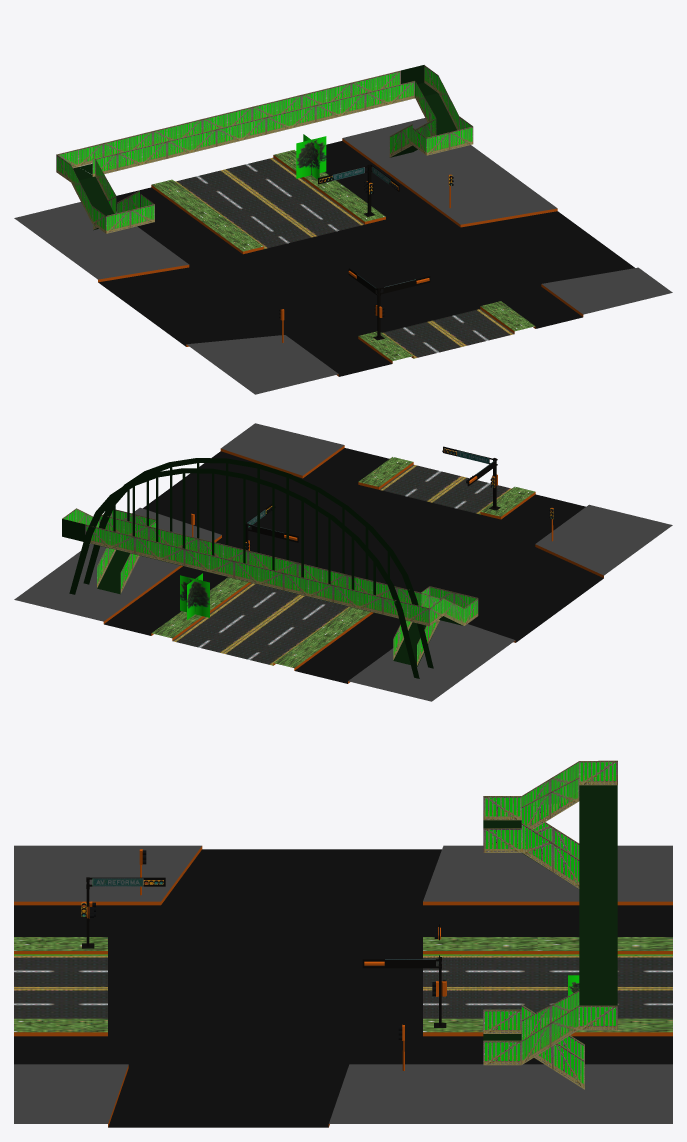
File: 02_refsep_n.obj
The picture shows the model from 3 angles, top to bottom: view 1: azimuth 30°, elevation 25°; view 2: azimuth 150°, elevation 25°; view 3: azimuth 270°, elevation 25°; orthographic projection. The views are drawn at different scales.
Parts seen in each view (by area): view 1: 02_refsep_n_Grid.004, pz_bridge_05_bridge.002_Plane.014, pz_semaf_03_prekfc_Plane.001; view 2: 02_refsep_n_Grid.004, pz_bridge_05_bridge.002_Plane.014, pz_semaf_03_prekfc_Plane.001; view 3: 02_refsep_n_Grid.004, pz_bridge_05_bridge.002_Plane.014, pz_semaf_03_prekfc_Plane.001.
Part boxes in pixels (x1,y1,x2,y2): 02_refsep_n_Grid.004: (14,118,672,394); pz_bridge_05_bridge.002_Plane.014: (56,65,473,233); pz_semaf_03_prekfc_Plane.001: (279,164,453,342); 02_refsep_n_Grid.004: (14,423,672,701); pz_bridge_05_bridge.002_Plane.014: (62,458,478,678); pz_semaf_03_prekfc_Plane.001: (191,446,553,550); 02_refsep_n_Grid.004: (14,845,672,1127); pz_bridge_05_bridge.002_Plane.014: (483,760,617,1089); pz_semaf_03_prekfc_Plane.001: (81,849,446,1070).
Bounding box in the file's own units: 16 × 6.04 × 16.
